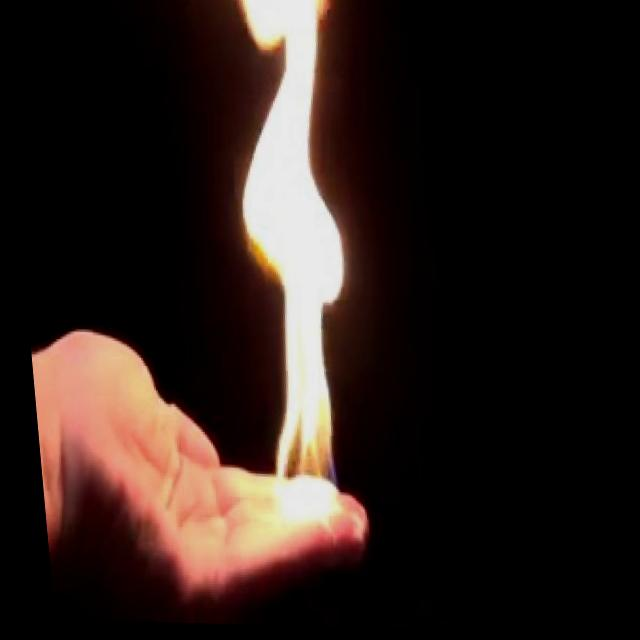helmet: (180, 0, 383, 524)
